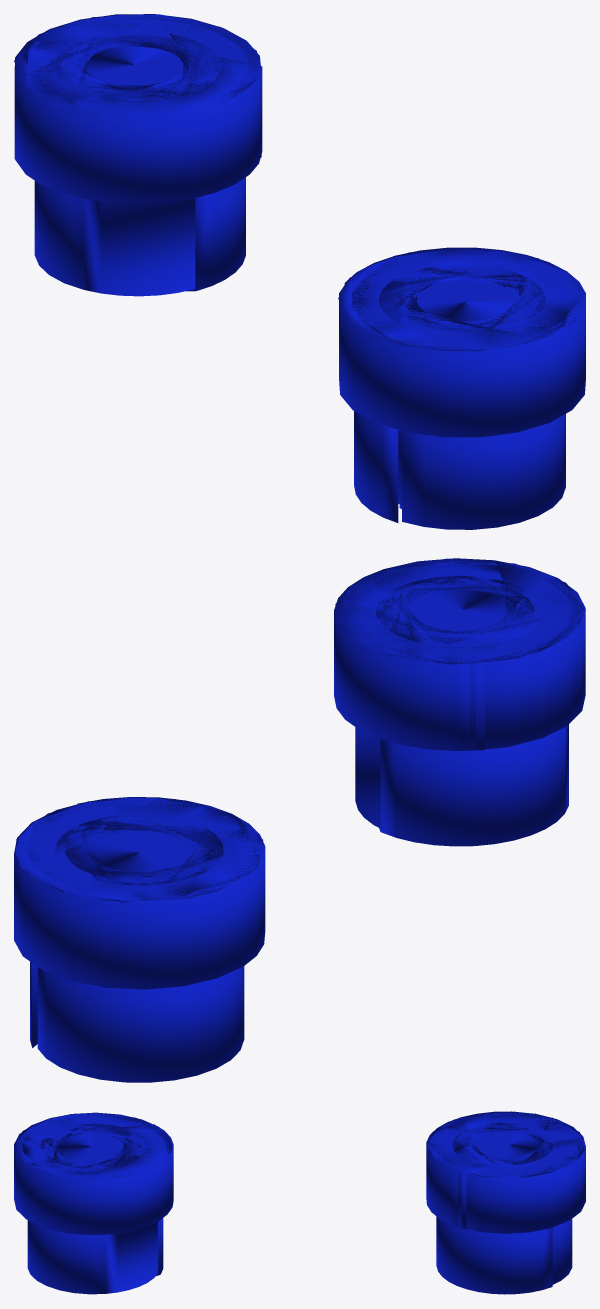
Rendered from tuyeau_element_000023.obj.
3 views of the same model, one above another, from view 1: azimuth 30°, elevation 25°; view 2: azimuth 150°, elevation 25°; view 3: azimuth 270°, elevation 25° (orthographic). The views are drawn at different scales.
Parts seen in each view (by area): view 1: tuyeau1_Cube.014, tuyeau2_Cube.017; view 2: tuyeau2_Cube.017, tuyeau1_Cube.014; view 3: tuyeau1_Cube.014, tuyeau2_Cube.017.
Boxes of the visible parts, x1,y1,x2,y2 form: tuyeau1_Cube.014: (14, 14, 262, 296); tuyeau2_Cube.017: (338, 247, 585, 529); tuyeau2_Cube.017: (334, 558, 585, 846); tuyeau1_Cube.014: (14, 797, 265, 1082); tuyeau1_Cube.014: (426, 1111, 585, 1294); tuyeau2_Cube.017: (14, 1112, 173, 1294).
Size of the model in its own units: 3587 by 2917 by 12615.
